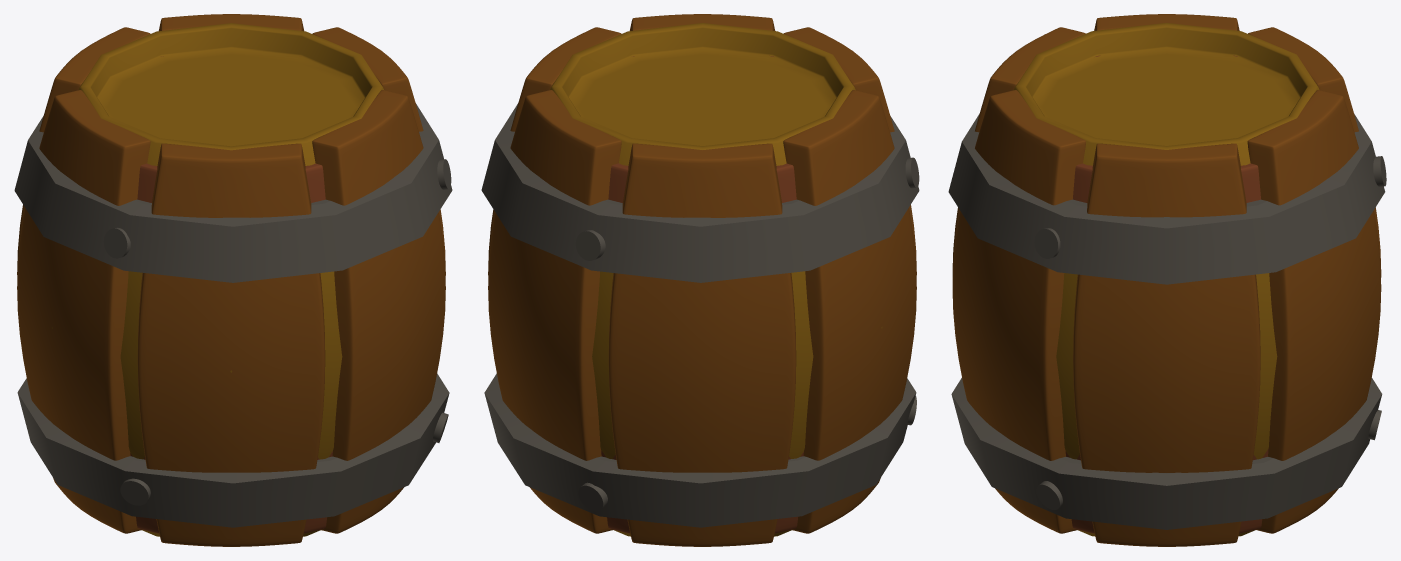
The model's file is Barrel.fbx.
3 renders of one model, left to right at view 1: azimuth 30°, elevation 25°; view 2: azimuth 150°, elevation 25°; view 3: azimuth 270°, elevation 25°, orthographic.
Parts seen in each view (by area): view 1: Cylinder.027, Cylinder.028, Cylinder.026, Cylinder.025, Cylinder.024, Cylinder.022, Cylinder.018; view 2: Cylinder.027, Cylinder.028, Cylinder.026, Cylinder.025, Cylinder.024, Cylinder.021, Cylinder.019; view 3: Cylinder.027, Cylinder.028, Cylinder.026, Cylinder.025, Cylinder.024, Cylinder.020, Cylinder.023.
Boxes of the visible parts, left/top/right/bottom form: Cylinder.027: left=17, top=14, right=445, bottom=546; Cylinder.028: left=52, top=23, right=383, bottom=536; Cylinder.026: left=14, top=103, right=452, bottom=282; Cylinder.025: left=17, top=373, right=449, bottom=527; Cylinder.024: left=130, top=56, right=332, bottom=533; Cylinder.022: left=103, top=227, right=130, bottom=258; Cylinder.018: left=120, top=478, right=150, bottom=505; Cylinder.027: left=488, top=14, right=916, bottom=546; Cylinder.028: left=550, top=23, right=882, bottom=536; Cylinder.026: left=481, top=103, right=919, bottom=282; Cylinder.025: left=484, top=373, right=916, bottom=527; Cylinder.024: left=601, top=55, right=803, bottom=533; Cylinder.021: left=575, top=230, right=605, bottom=260; Cylinder.019: left=578, top=482, right=607, bottom=511; Cylinder.027: left=952, top=14, right=1381, bottom=546; Cylinder.028: left=1014, top=22, right=1319, bottom=536; Cylinder.026: left=948, top=114, right=1385, bottom=284; Cylinder.025: left=951, top=377, right=1382, bottom=529; Cylinder.024: left=1065, top=55, right=1268, bottom=533; Cylinder.020: left=1034, top=228, right=1060, bottom=258; Cylinder.023: left=1036, top=481, right=1062, bottom=509.
Size of the model in its own units: 22.92 by 22.86 by 22.89.
